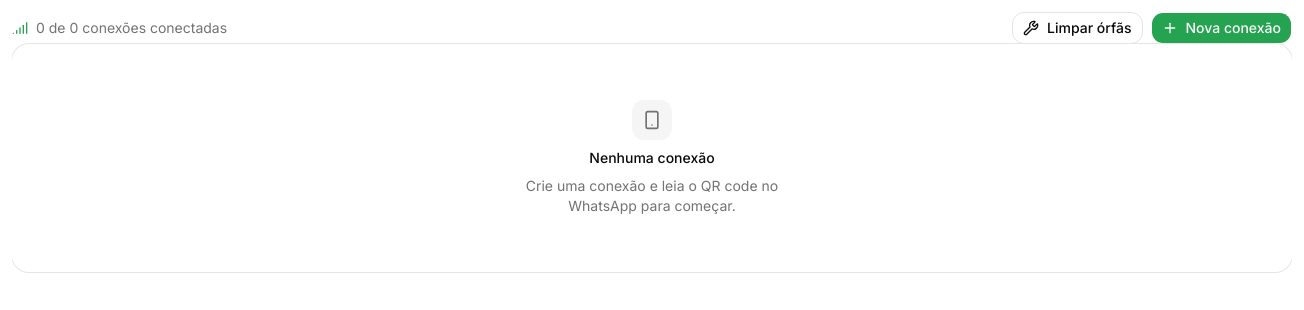
Scenario: instâncias órfãs › conta quantas foram removidas
The width and height of the screenshot is (1304, 310).
Click the button "Limpar órfãs": (1077, 28) [1012,12,1142,44]
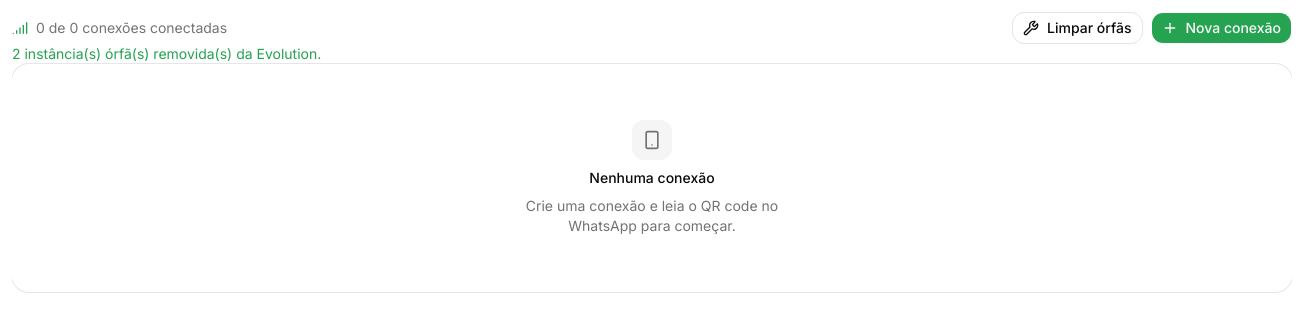
Check: the message shows "2 instância(s) órfã(s) removida(s)", box [12,45,321,62]
